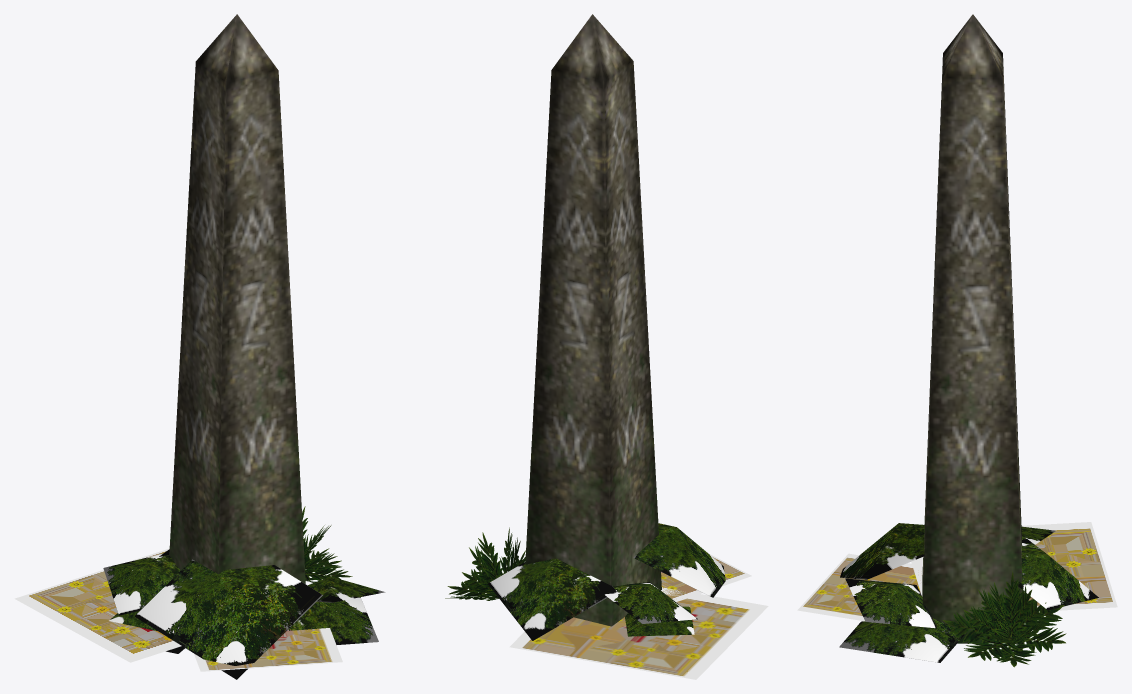
The model's file is obelisk.dae.
3 views of the same model, side by side, from view 1: azimuth 30°, elevation 25°; view 2: azimuth 150°, elevation 25°; view 3: azimuth 270°, elevation 25° (orthographic).
Parts seen in each view (by area): view 1: Untitled; view 2: Untitled; view 3: Untitled.
Part boxes in pixels (box(x1,y1,x2,y2)): Untitled: box(14, 14, 385, 679); Untitled: box(445, 14, 768, 679); Untitled: box(797, 14, 1117, 667).
Size of the model in its own units: 2.75 by 2.46 by 5.15.
4 materials, 4 textured.
